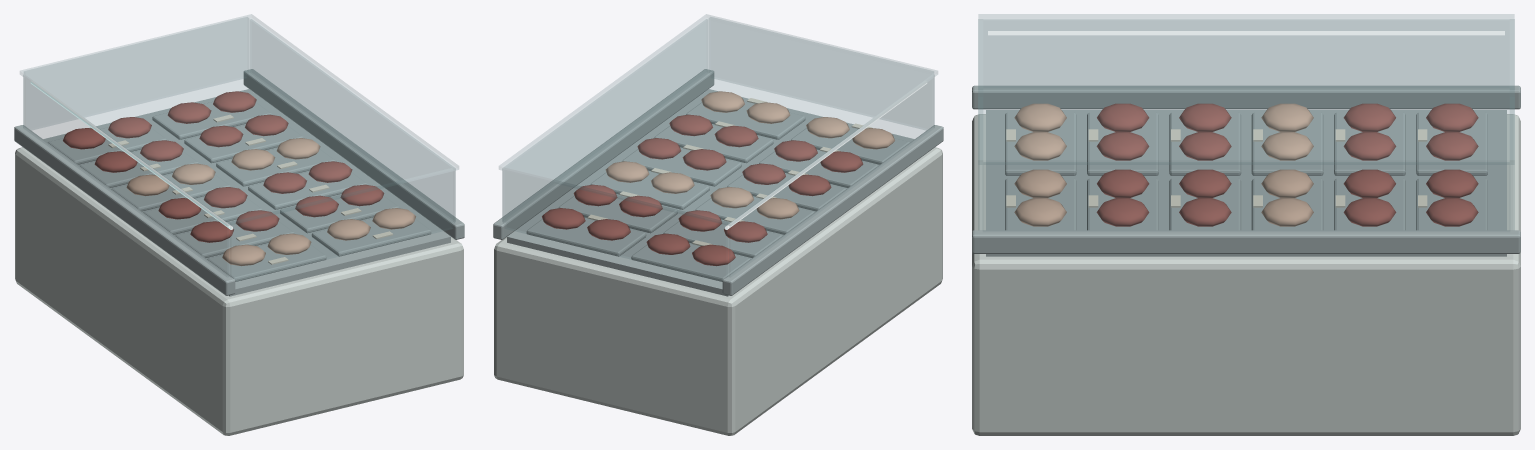
File: meat.glb
3 views of the same model, side by side, from view 1: azimuth 30°, elevation 25°; view 2: azimuth 150°, elevation 25°; view 3: azimuth 270°, elevation 25° (orthographic). The views are drawn at different scales.
Parts seen in each view (by area): view 1: meat_fixture_Smoked glass approximation, meat_fixture_Refrigerator enamel, meat_fixture_Brushed stainless, meat_detail_Butchery tray product, meat_detail_poultry, meat_micro_Ivory shelf label, meat_fixture_Cabinet LED; view 2: meat_fixture_Smoked glass approximation, meat_fixture_Refrigerator enamel, meat_fixture_Brushed stainless, meat_detail_Butchery tray product, meat_detail_poultry, meat_fixture_Cabinet LED, meat_micro_Ivory shelf label; view 3: meat_fixture_Smoked glass approximation, meat_fixture_Refrigerator enamel, meat_fixture_Brushed stainless, meat_detail_Butchery tray product, meat_detail_poultry, meat_fixture_Cabinet LED, meat_micro_Ivory shelf label.
Part boxes in pixels (x1,y1,x2,y2): meat_fixture_Smoked glass approximation: (20,14,458,281); meat_fixture_Refrigerator enamel: (15,98,463,435); meat_fixture_Brushed stainless: (14,69,464,296); meat_detail_Butchery tray product: (63,91,384,242); meat_detail_poultry: (126,138,415,266); meat_micro_Ivory shelf label: (108,114,393,264); meat_fixture_Cabinet LED: (30,80,232,229); meat_fixture_Smoked glass approximation: (499,14,937,281); meat_fixture_Refrigerator enamel: (494,98,942,435); meat_fixture_Brushed stainless: (493,69,943,296); meat_detail_Butchery tray product: (542,114,863,266); meat_detail_poultry: (605,91,894,219); meat_fixture_Cabinet LED: (725,80,927,229); meat_micro_Ivory shelf label: (587,98,871,245); meat_fixture_Smoked glass approximation: (978,14,1514,230); meat_fixture_Refrigerator enamel: (972,114,1520,435); meat_fixture_Brushed stainless: (972,85,1520,256); meat_detail_Butchery tray product: (1096,103,1478,226); meat_detail_poultry: (1014,103,1313,226); meat_fixture_Cabinet LED: (988,31,1504,35); meat_micro_Ivory shelf label: (1006,129,1427,207).
Bounding box in the file's own units: 1.7 × 1.44 × 2.6.
